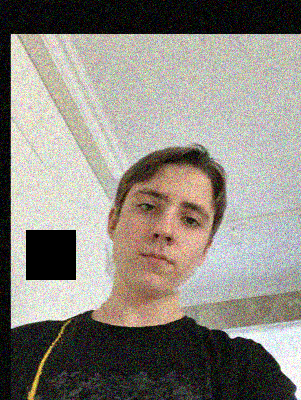without_mask: (112, 183, 213, 298)
